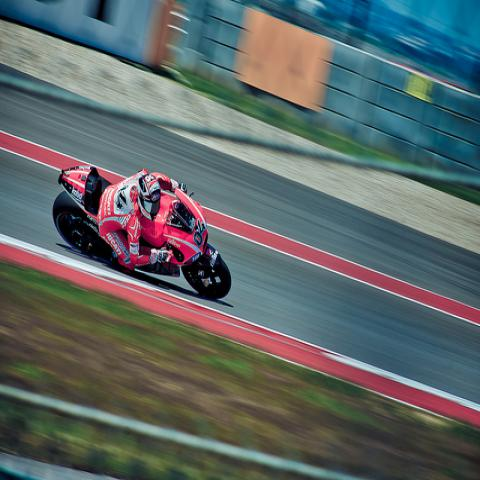motorcycle: (52, 163, 233, 302)
